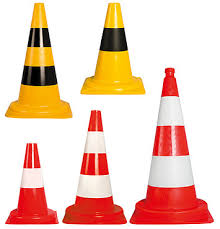cones: (132, 69, 213, 225), (6, 3, 73, 119), (63, 109, 125, 224), (84, 3, 145, 97), (8, 144, 57, 226)
